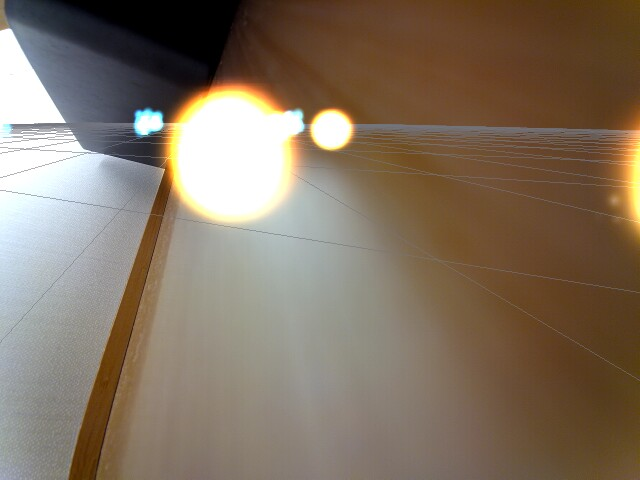fire: (163, 81, 299, 235), (307, 103, 358, 154), (620, 121, 640, 237)
